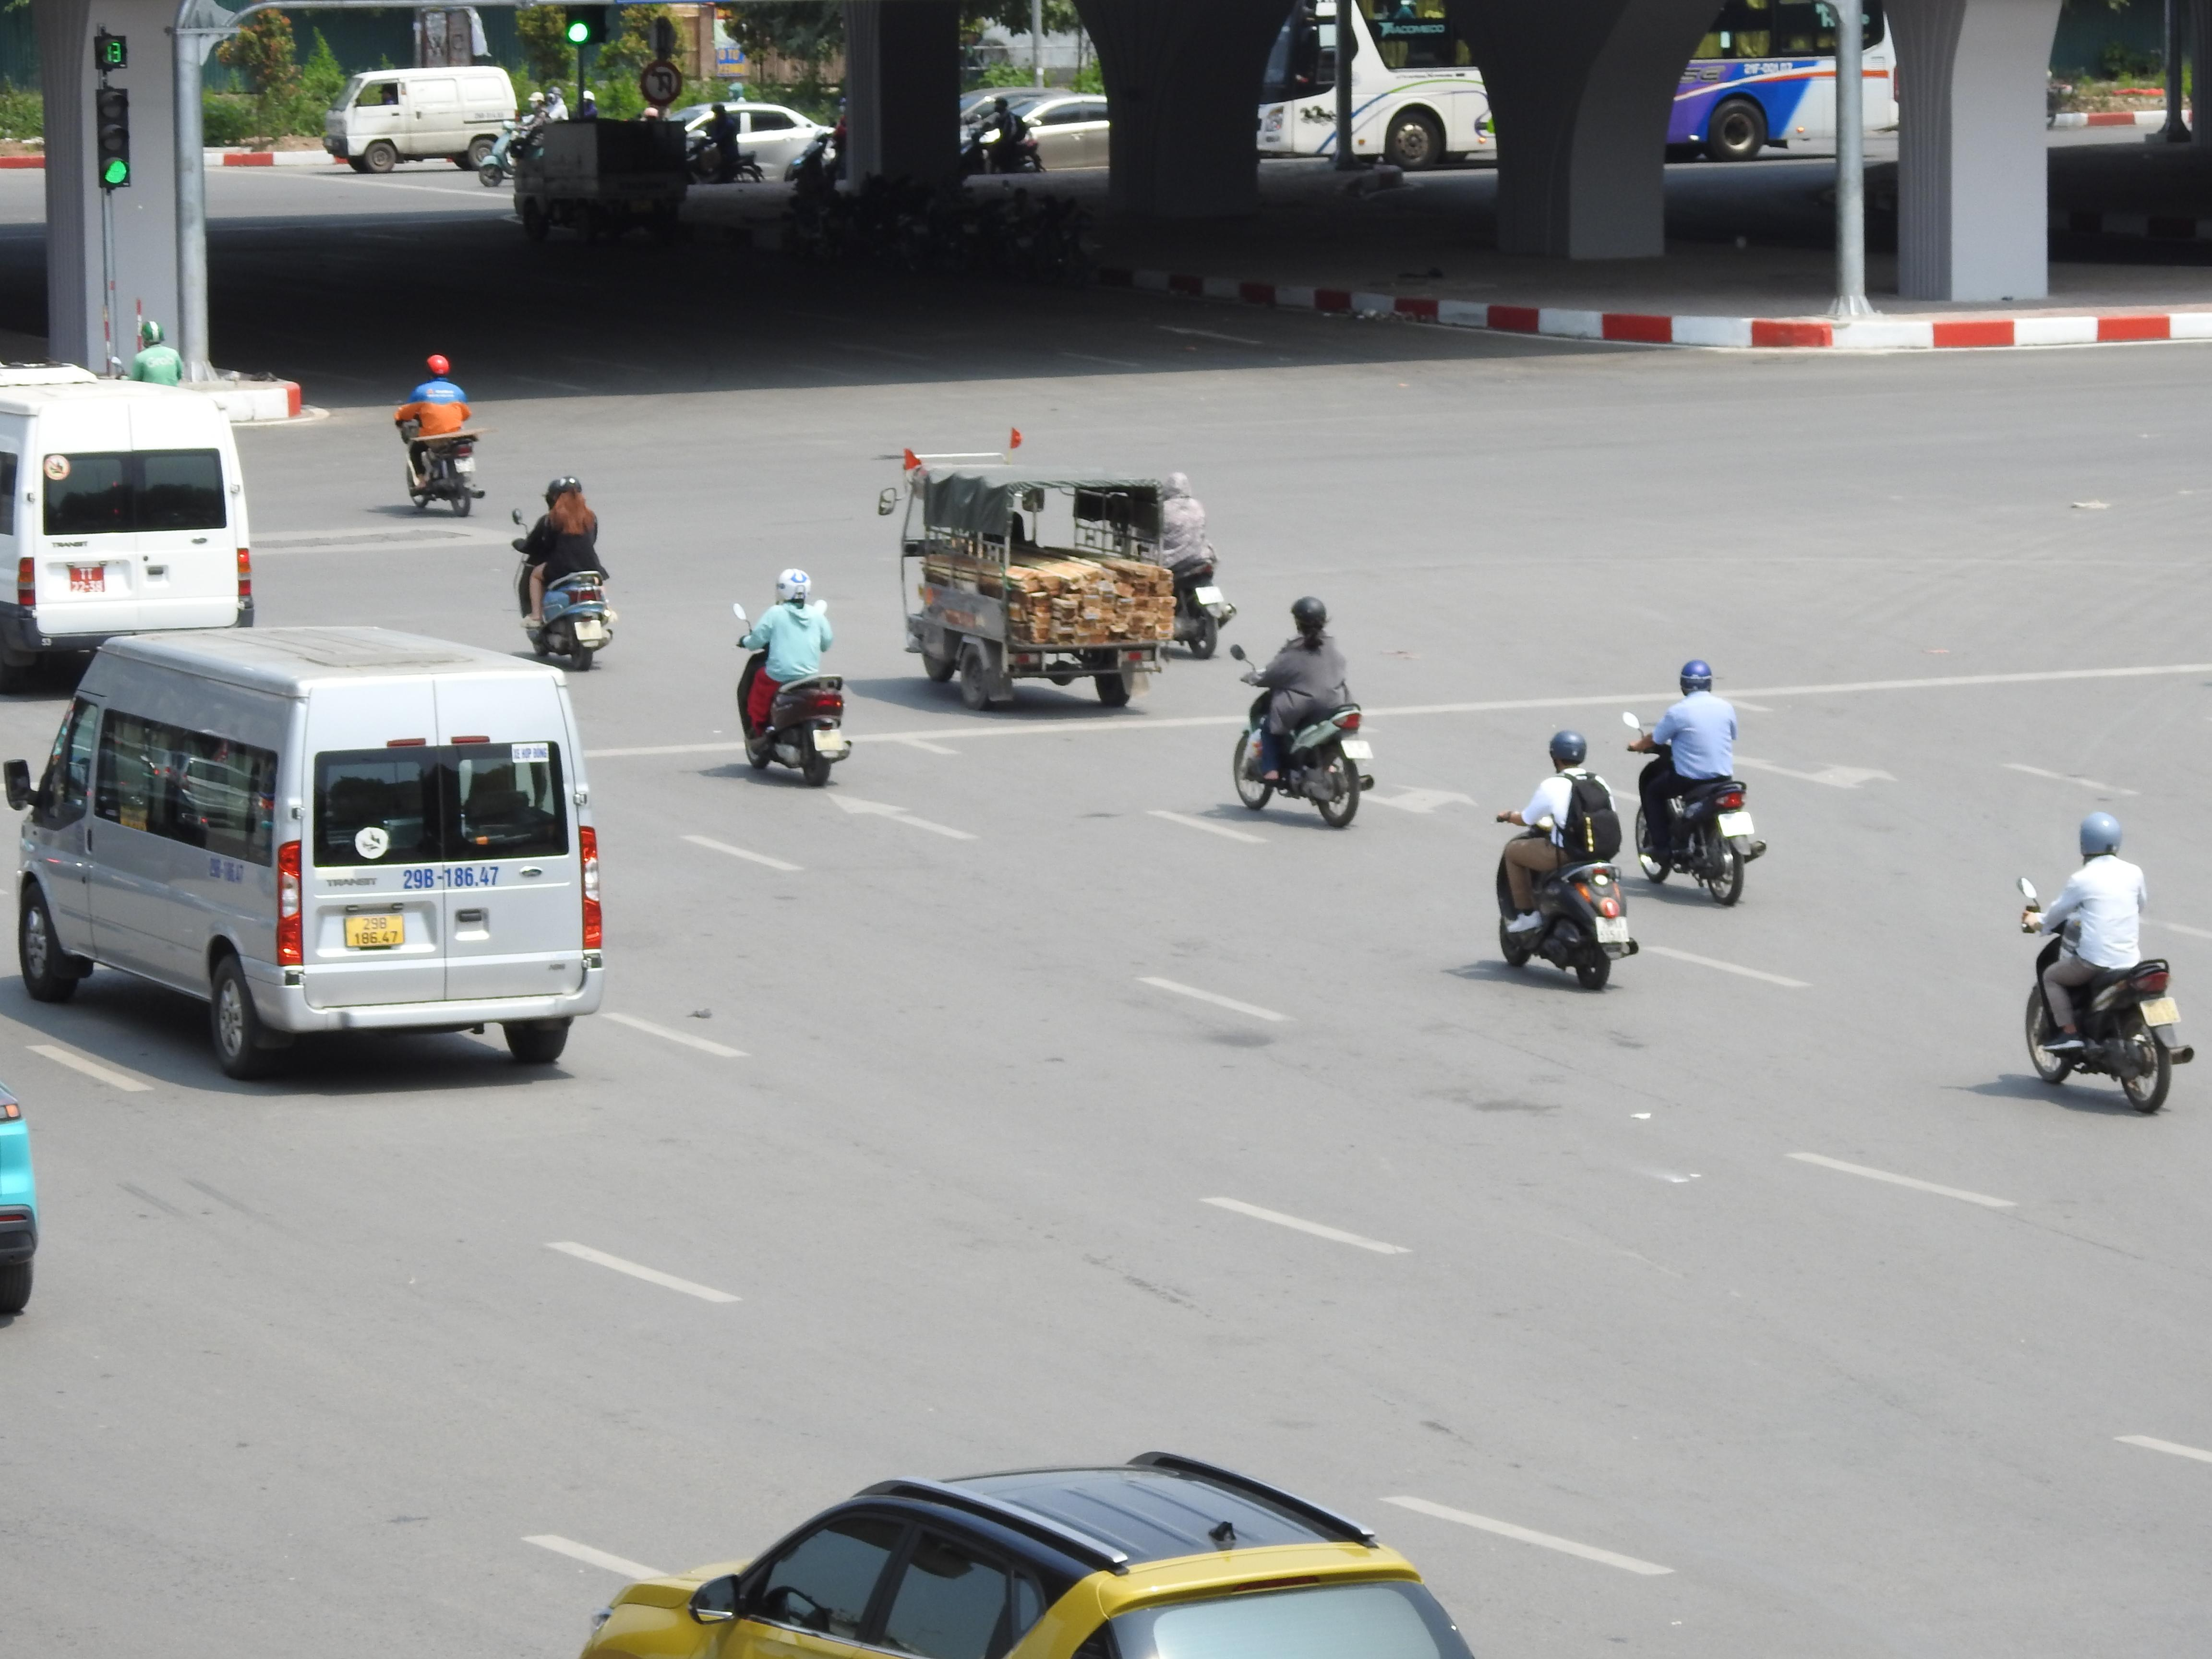BSV: (345, 913, 404, 946), (2139, 997, 2181, 1026), (70, 566, 106, 594), (1595, 918, 1630, 946)
bus: (3, 620, 606, 1080), (0, 366, 258, 688)
car: (542, 1450, 1580, 1659), (322, 64, 521, 174), (671, 101, 838, 185)
motorbike: (2020, 810, 2191, 1115), (1494, 728, 1637, 993), (1629, 657, 1764, 908), (1231, 594, 1374, 829), (733, 566, 852, 788), (512, 474, 615, 671), (1153, 472, 1237, 659), (395, 355, 484, 518)
truck: (880, 450, 1177, 714)
